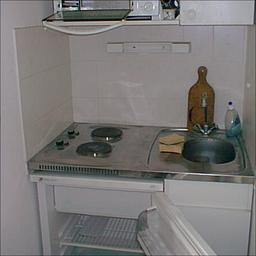Electrodomestico: (27, 124, 160, 173)
Lavaplatos: (161, 124, 249, 181)
